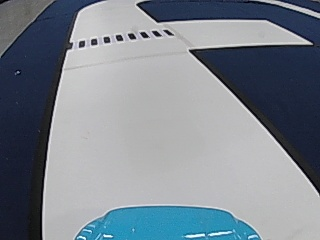CrossWalk: (71, 28, 175, 49)
